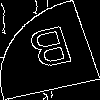B: (25, 25, 79, 78)
